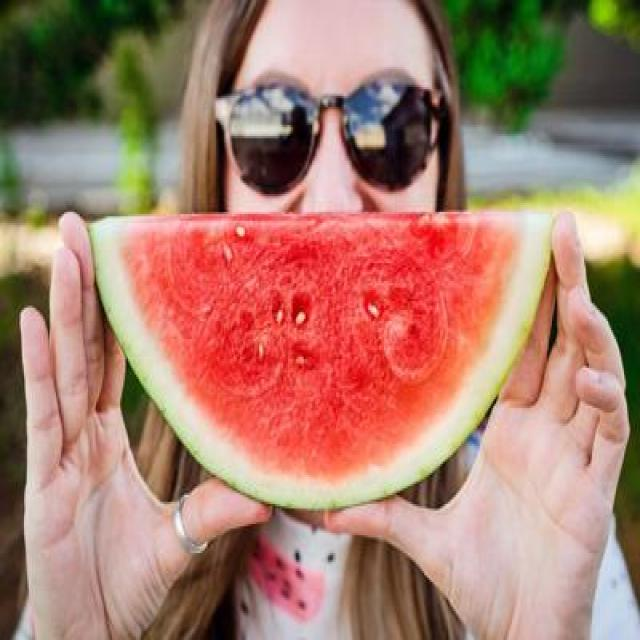watermelon: (82, 194, 568, 506)
